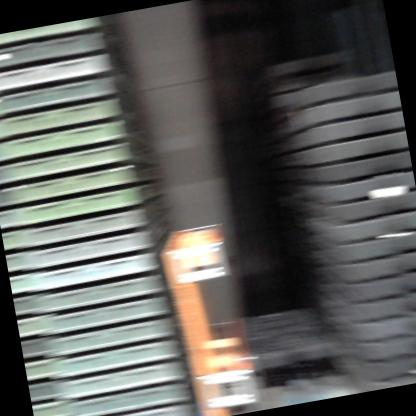pallet: (156, 214, 264, 416)
